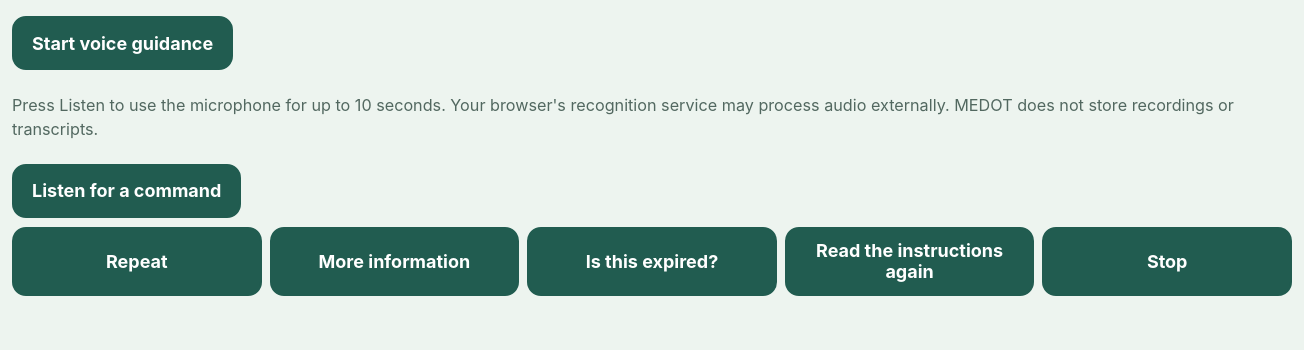
Test: a browser recognition constructor failure leaves the controls usable
The width and height of the screenshot is (1304, 350).
Click the button "Listen for a command" at (127, 191), box [12,164,241,218]
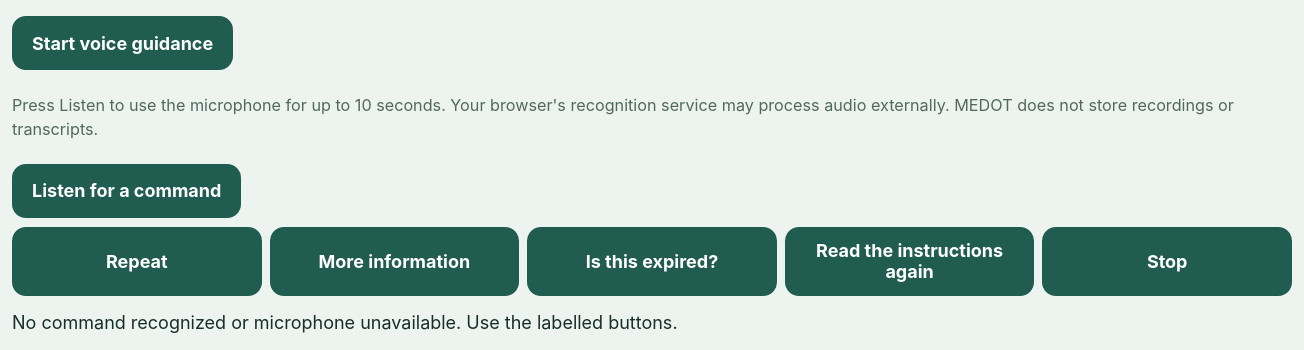
Result: the text "No command recognized or microphone unavailable. Use the labelled buttons." is shown at [12,312,678,334]
